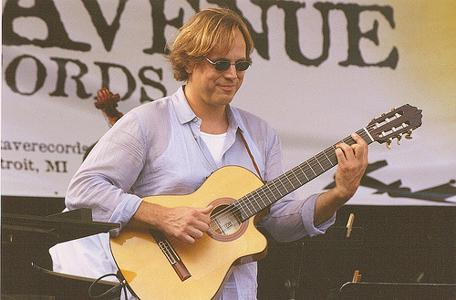person: (67, 8, 368, 299)
